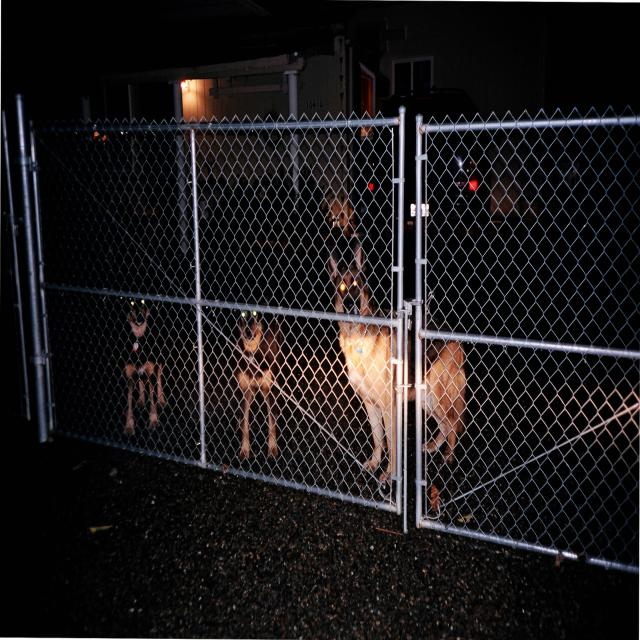Dog: (324, 249, 472, 497), (220, 314, 309, 462), (123, 281, 176, 431)
